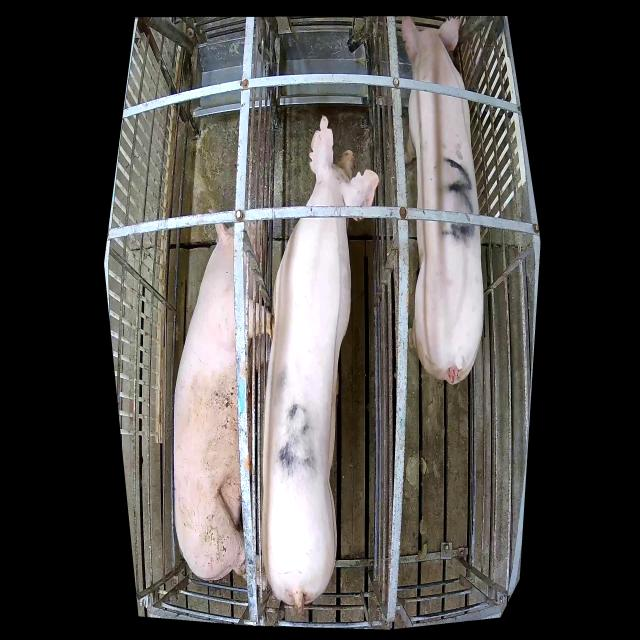pig: (262, 114, 380, 614), (174, 221, 274, 592), (402, 17, 484, 384)
